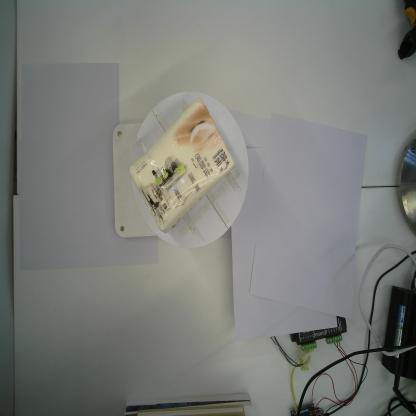Tissue: (127, 96, 238, 236)
